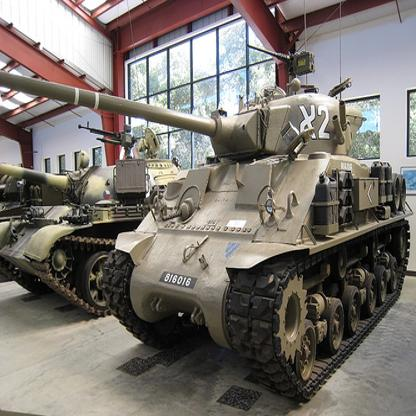Tank: (102, 64, 416, 402), (1, 111, 189, 352)
